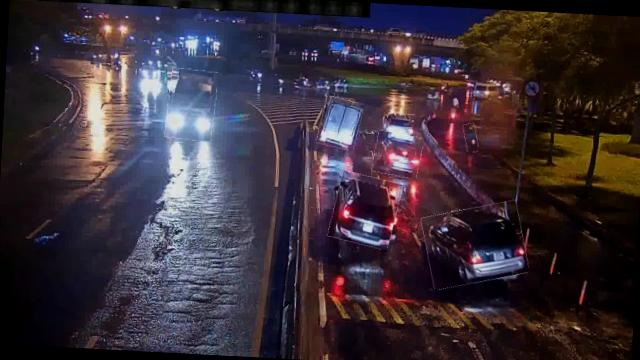Bike: (463, 123, 478, 153)
Car: (422, 200, 528, 288), (329, 172, 400, 247), (372, 131, 422, 177), (382, 112, 416, 140)
Truck: (165, 67, 217, 140), (316, 96, 362, 150)
